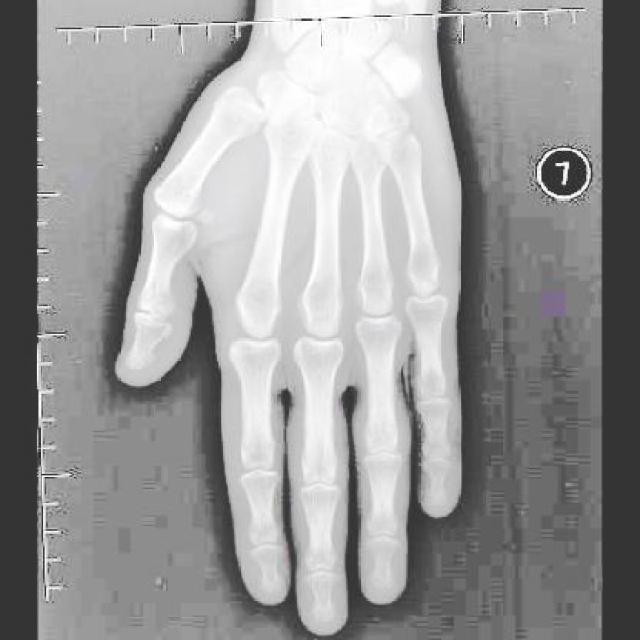Fracture: (150, 335, 173, 360)
